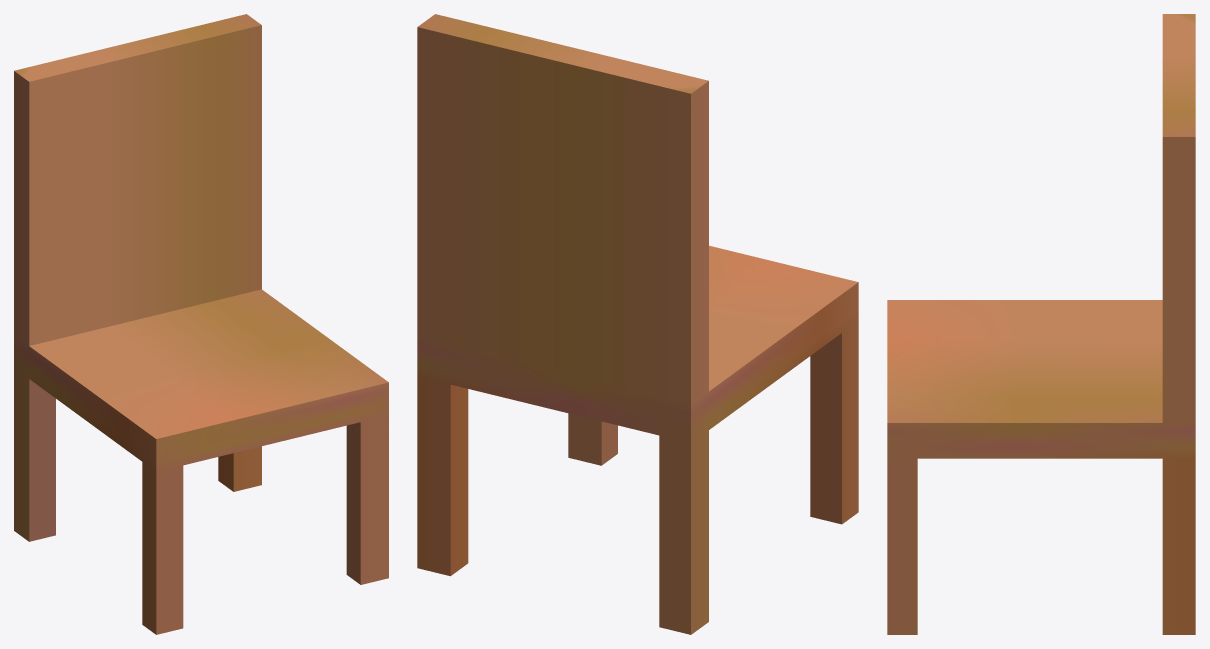
Rendered from Chair.fbx.
The picture shows the model from 3 angles, left to right: view 1: azimuth 30°, elevation 25°; view 2: azimuth 150°, elevation 25°; view 3: azimuth 270°, elevation 25°; orthographic projection. The views are drawn at different scales.
Parts seen in each view (by area): view 1: Chair; view 2: Chair; view 3: Chair.
Part boxes in pixels (x1,y1,x2,y2): Chair: [14, 14, 388, 634]; Chair: [417, 14, 858, 634]; Chair: [887, 14, 1195, 634].
Size of the model in its own units: 68.21 by 129 by 72.27.
1 material, 1 textured.
